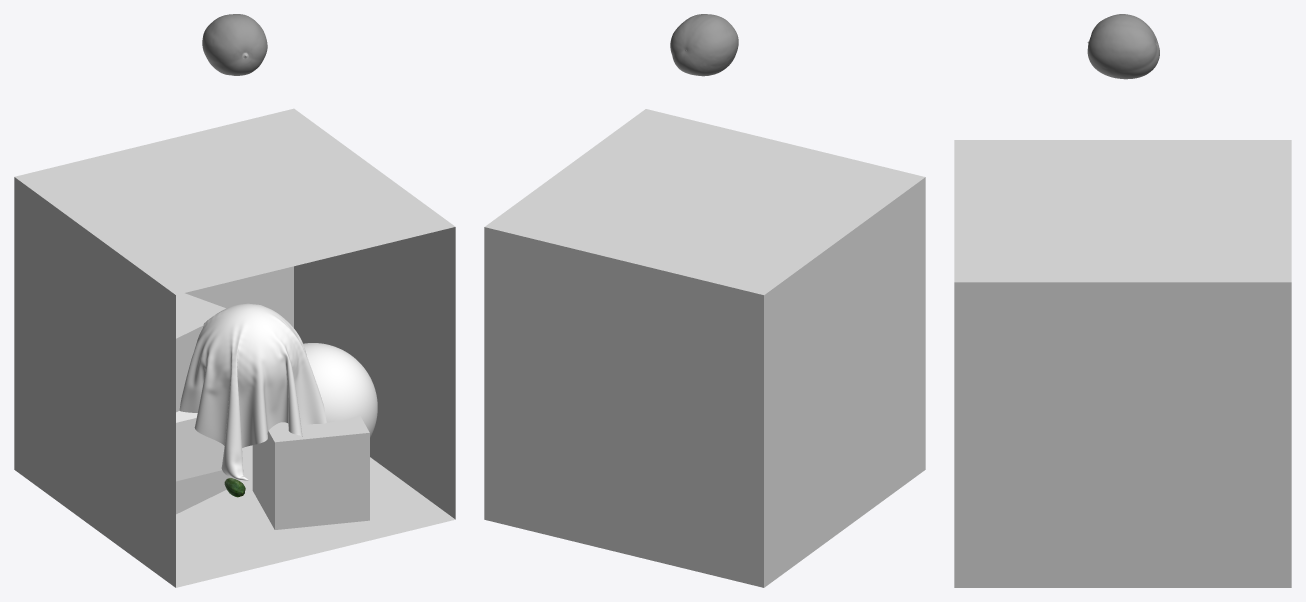
The model's file is cbox.fbx.
3 renders of one model, left to right at view 1: azimuth 30°, elevation 25°; view 2: azimuth 150°, elevation 25°; view 3: azimuth 270°, elevation 25°, orthographic. The views are drawn at different scales.
Parts seen in each view (by area): view 1: LeftWall, Ceiling, RightWall, cloth, Floor, ShortBox, sphere, TallBox, Watermelon.002, BackWall, Cube; view 2: BackWall, LeftWall, Ceiling, Watermelon.002; view 3: RightWall, Ceiling, Watermelon.002.
Boxes of the visible parts, <box> form: LeftWall: <box>14,177,175,587</box>; Ceiling: <box>14,108,455,294</box>; RightWall: <box>294,227,455,519</box>; cloth: <box>179,303,326,480</box>; Floor: <box>176,445,455,587</box>; ShortBox: <box>252,415,369,529</box>; sphere: <box>303,343,377,437</box>; TallBox: <box>176,293,232,514</box>; Watermelon.002: <box>202,14,267,75</box>; BackWall: <box>185,266,293,327</box>; Cube: <box>176,411,224,481</box>; BackWall: <box>484,227,763,587</box>; LeftWall: <box>764,177,925,587</box>; Ceiling: <box>485,109,924,294</box>; Watermelon.002: <box>670,14,738,76</box>; RightWall: <box>954,282,1291,587</box>; Ceiling: <box>954,140,1291,282</box>; Watermelon.002: <box>1087,14,1159,79</box>.
Size of the model in its own units: 200 by 326 by 200.
